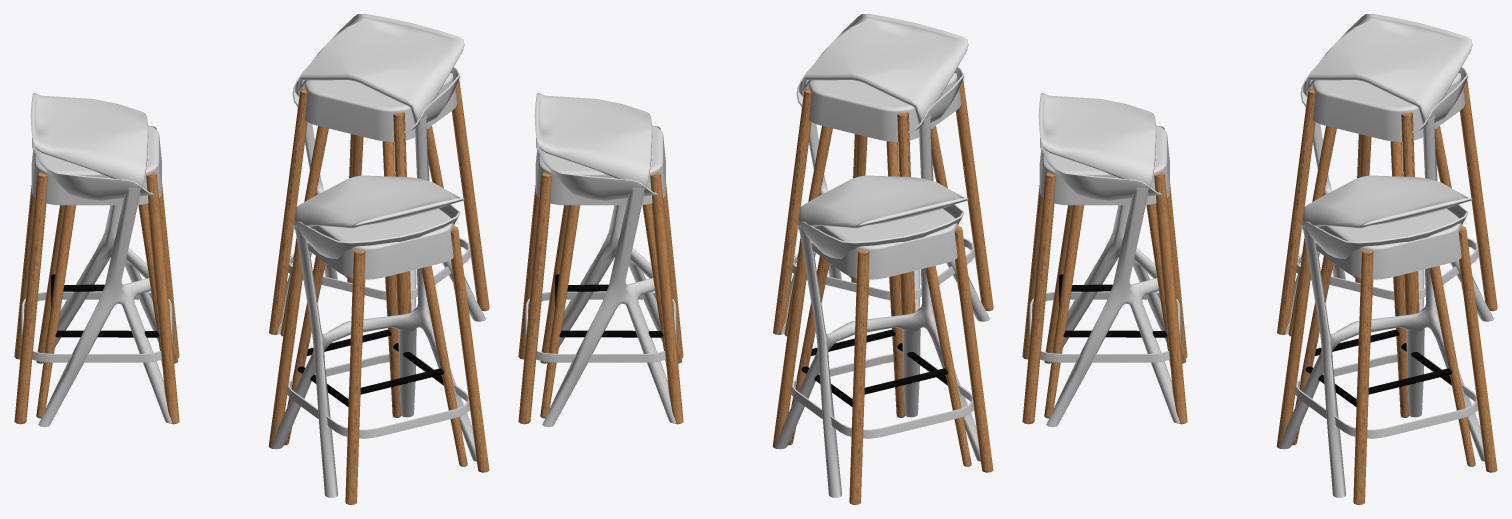
Rendered from Sillas2.gltf.
3 views of the same model, side by side, from view 1: azimuth 30°, elevation 25°; view 2: azimuth 150°, elevation 25°; view 3: azimuth 270°, elevation 25° (orthographic).
Visible parts, largest first — view 1: Sillas_Miura, Sillas_Kansas, Sillas_Channel; view 2: Sillas_Miura, Sillas_Kansas, Sillas_Channel; view 3: Sillas_Miura, Sillas_Kansas, Sillas_Channel.
Part boxes in pixels (<box>): Sillas_Miura: <box>30,14,486,497</box>; Sillas_Kansas: <box>14,73,489,504</box>; Sillas_Channel: <box>32,67,467,466</box>; Sillas_Miura: <box>534,14,990,497</box>; Sillas_Kansas: <box>518,73,993,504</box>; Sillas_Channel: <box>536,67,971,466</box>; Sillas_Miura: <box>1038,14,1494,497</box>; Sillas_Kansas: <box>1022,73,1497,504</box>; Sillas_Channel: <box>1040,67,1475,466</box>.
Bounding box in the file's own units: 1.62 × 0.8929 × 1.41.
1 material, 1 textured.
